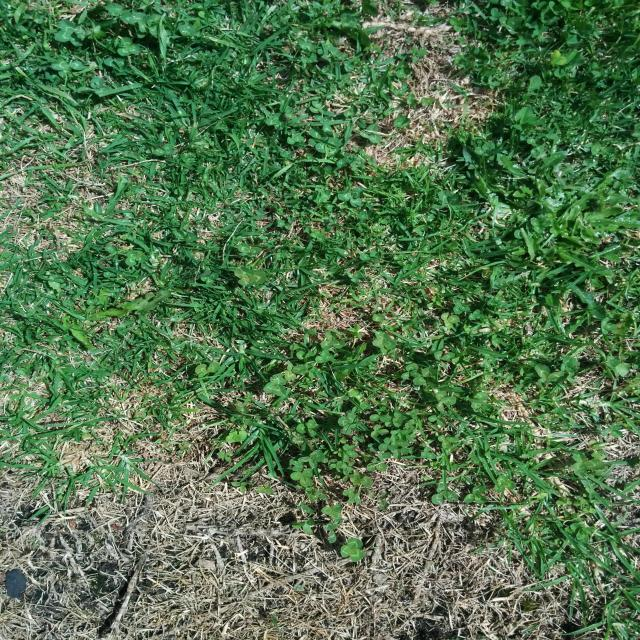Four Leaf Clover: (337, 412, 362, 435)
